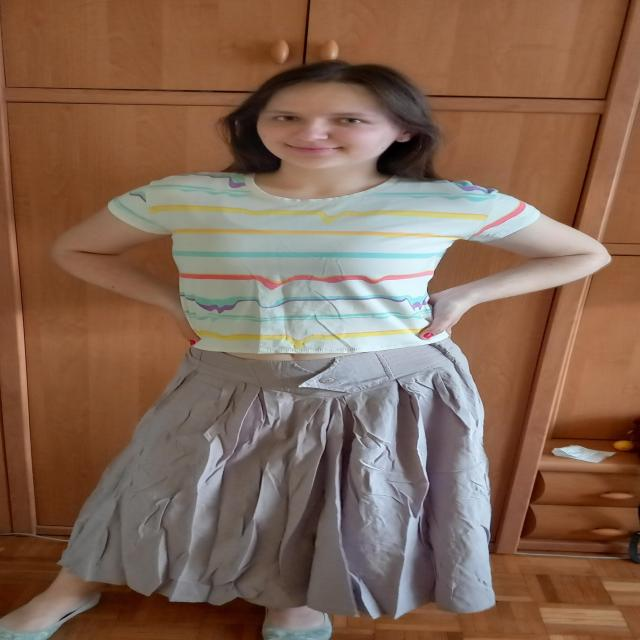Tshirt: (105, 171, 541, 353)
skirt: (58, 344, 497, 620)
